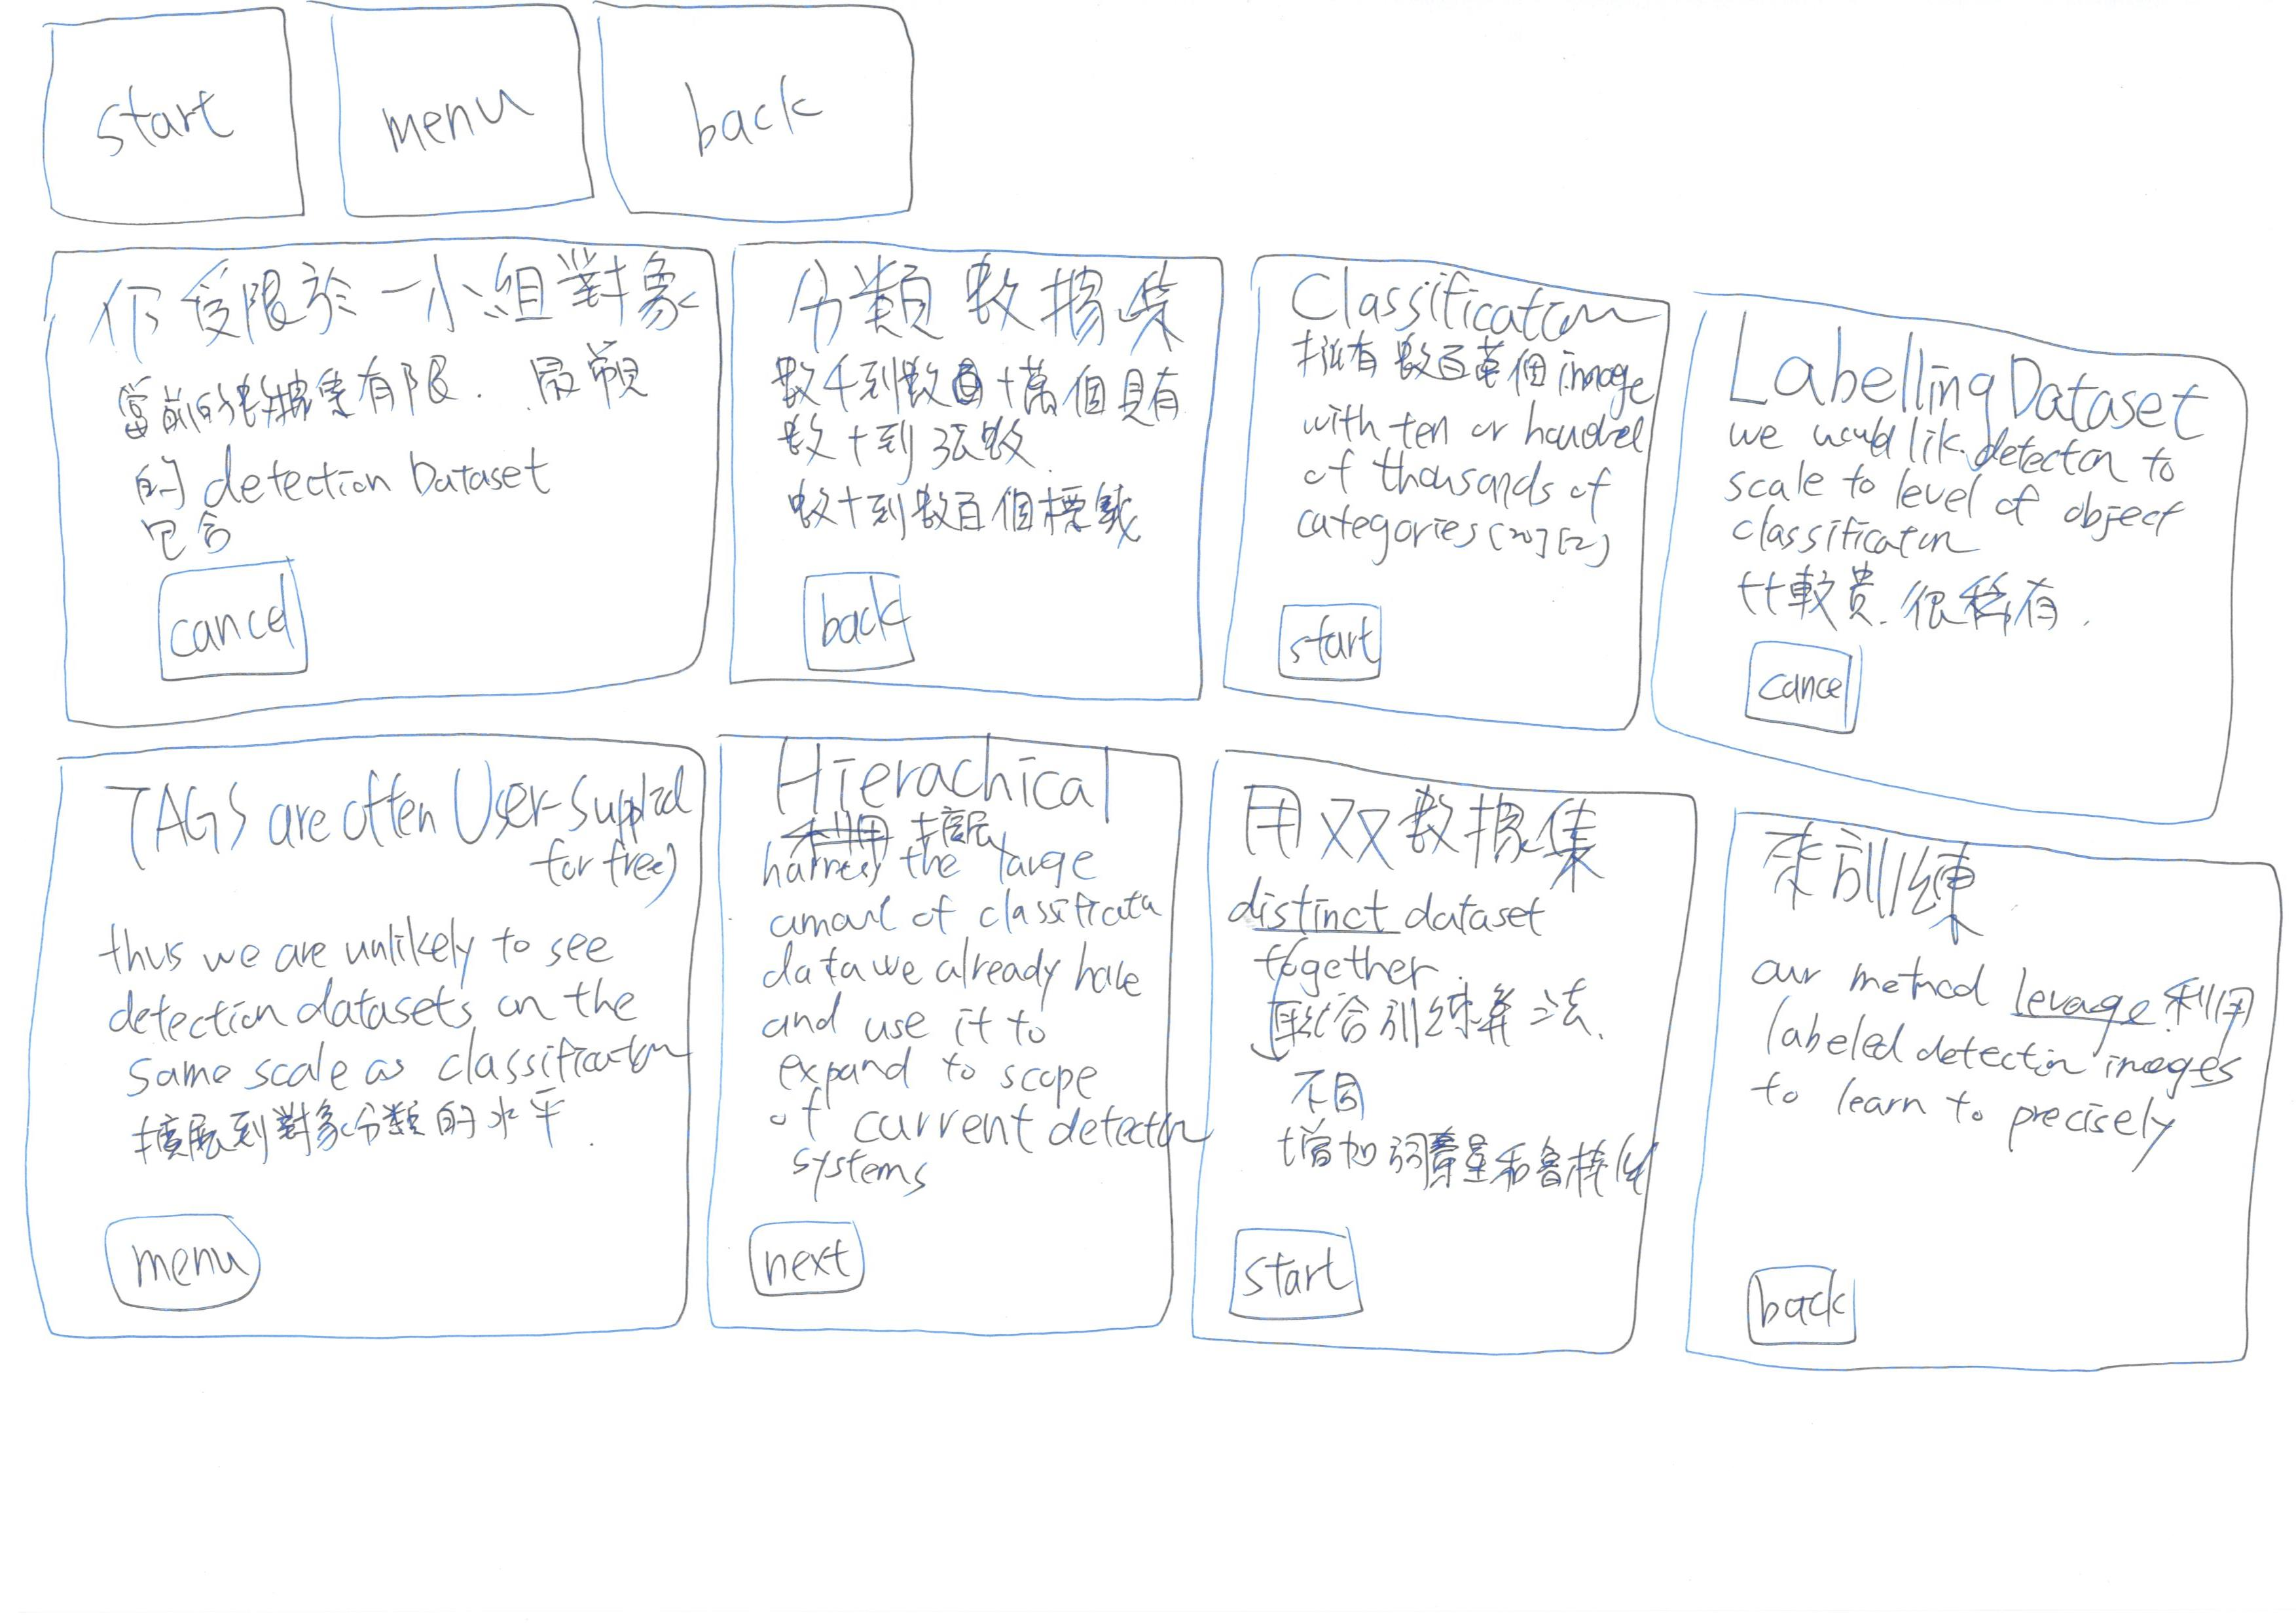back: (601, 0, 939, 246), (772, 552, 956, 684), (1733, 1232, 1886, 1350)
cancel: (128, 559, 338, 700), (1728, 631, 1892, 752)
menu: (320, 0, 601, 227), (63, 1190, 308, 1322)
next: (728, 1199, 881, 1316)
quadruple: (7, 736, 710, 1427), (1702, 784, 2296, 1466), (694, 703, 1213, 1445), (1183, 740, 1725, 1450), (16, 228, 728, 745), (1642, 279, 2296, 837), (721, 221, 1252, 726), (1213, 239, 1705, 754)
row: (0, 722, 2296, 1496), (0, 207, 2296, 808), (0, 0, 2296, 274)
small-title: (70, 246, 658, 394), (120, 770, 666, 886), (1737, 337, 2212, 452), (1252, 789, 1686, 910), (1280, 274, 1649, 401), (756, 244, 1180, 352), (772, 743, 1127, 835), (1767, 837, 2008, 956)
start: (28, 0, 322, 236), (1210, 1211, 1371, 1341), (1262, 582, 1401, 687)
text: (107, 912, 679, 1153), (779, 831, 1152, 1188), (1236, 877, 1630, 1199), (1747, 940, 2245, 1183), (77, 360, 608, 534), (1733, 431, 2178, 624), (772, 367, 1180, 547), (1301, 410, 1614, 569)
